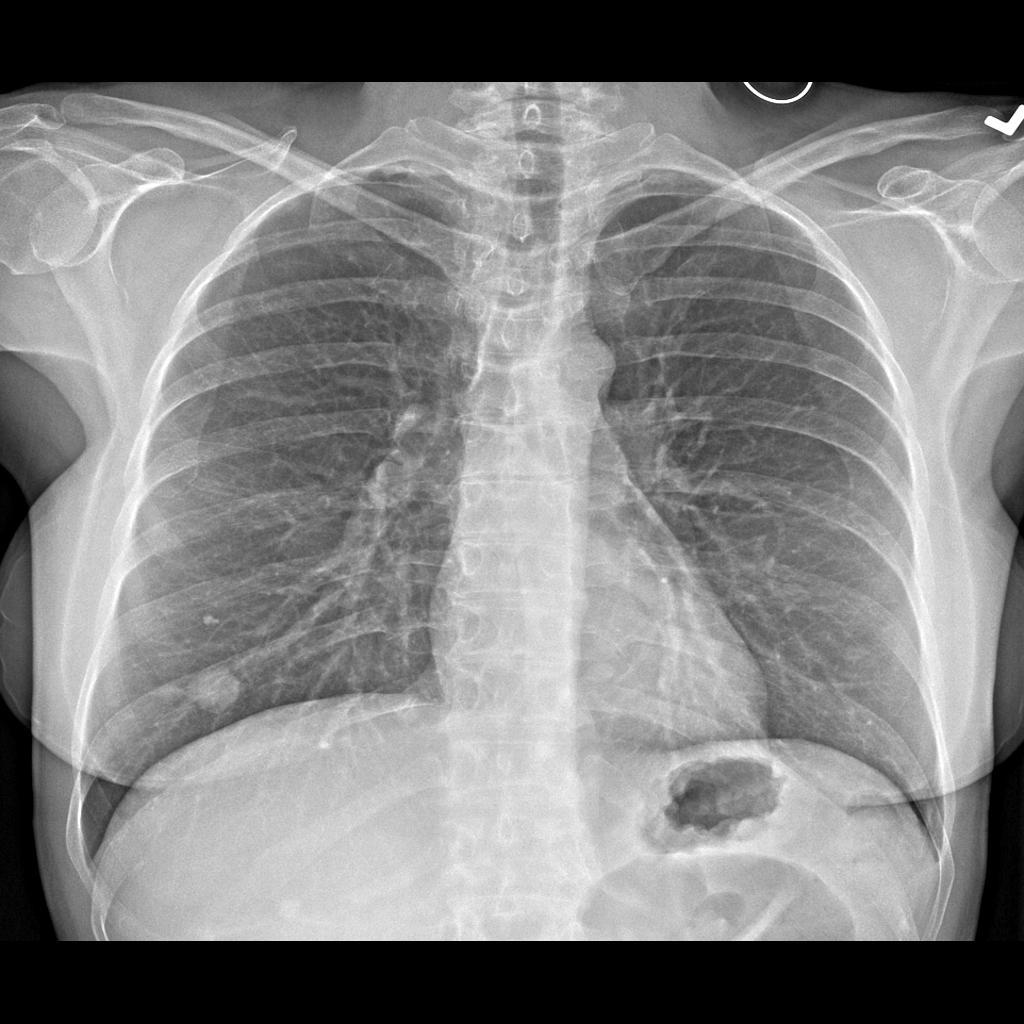Nodule: (176, 656, 246, 721)
